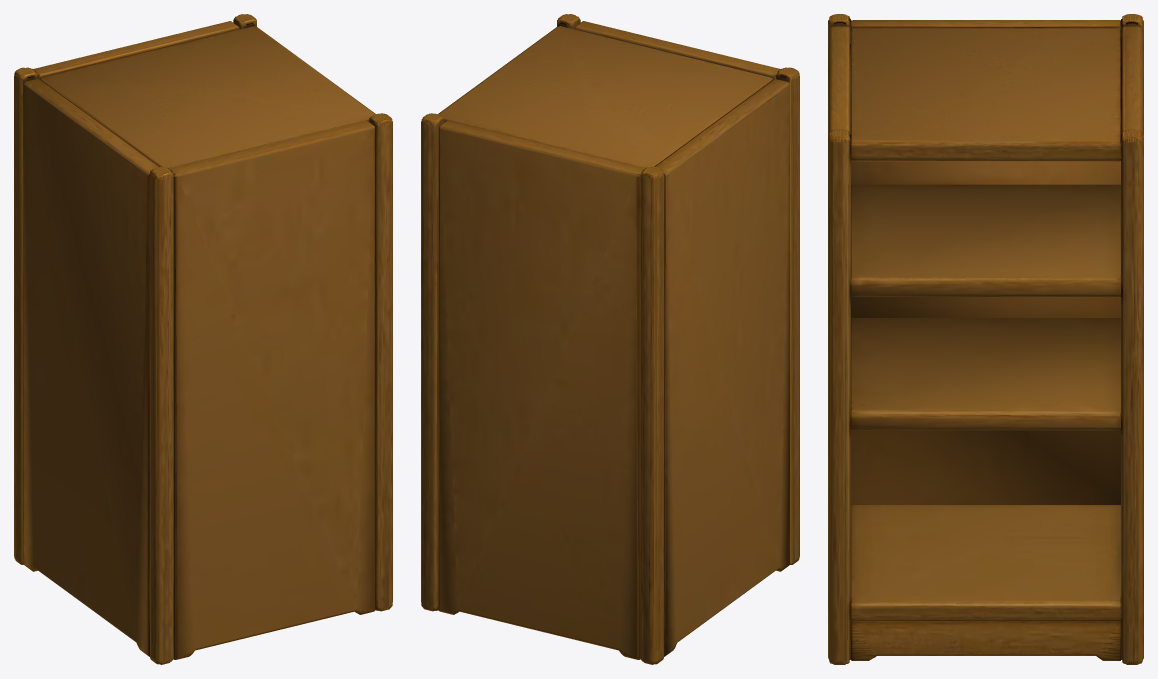
Rendered from bookshelf-lod0.glb.
3 renders of one model, left to right at view 1: azimuth 30°, elevation 25°; view 2: azimuth 150°, elevation 25°; view 3: azimuth 270°, elevation 25°, orthographic. The views are drawn at different scales.
Visible parts, largest first — view 1: ROOT_Shelf; view 2: ROOT_Shelf; view 3: ROOT_Shelf.
Boxes of the visible parts, x1=… form: ROOT_Shelf: x1=14, y1=14, x2=392, y2=664; ROOT_Shelf: x1=421, y1=14, x2=799, y2=664; ROOT_Shelf: x1=828, y1=14, x2=1143, y2=664.
Bounding box in the file's own units: 0.5059 × 0.998 × 0.541.
1 material, 1 textured.
